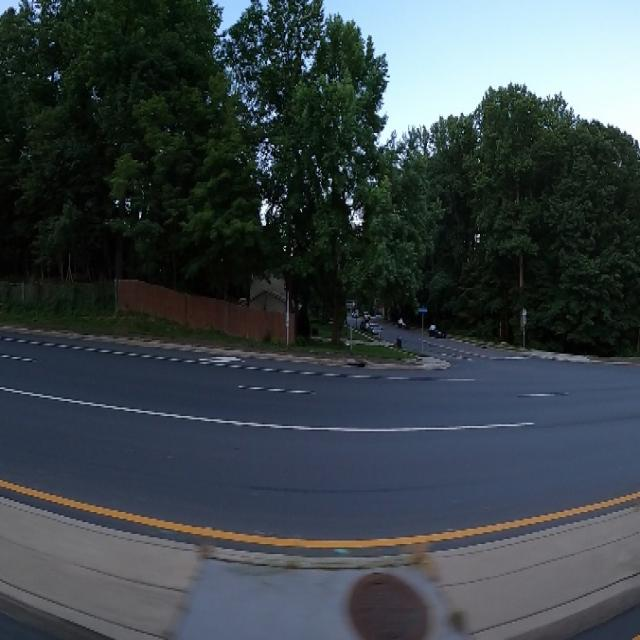cars: (426, 314, 447, 347), (395, 310, 411, 335), (359, 315, 372, 333)
